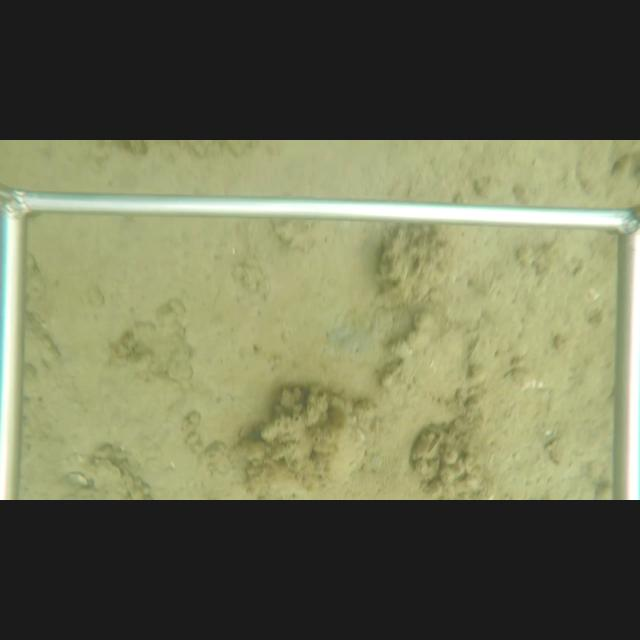Oyster-Closed: (312, 391, 371, 494)
Oyster-Open: (410, 424, 450, 461)
